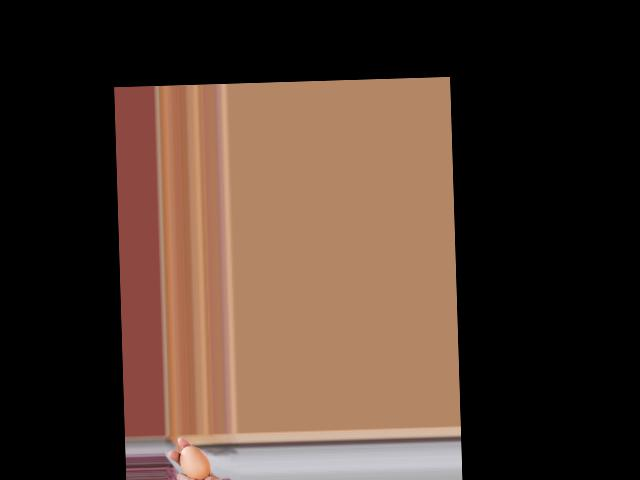egg: (178, 445, 209, 480)
